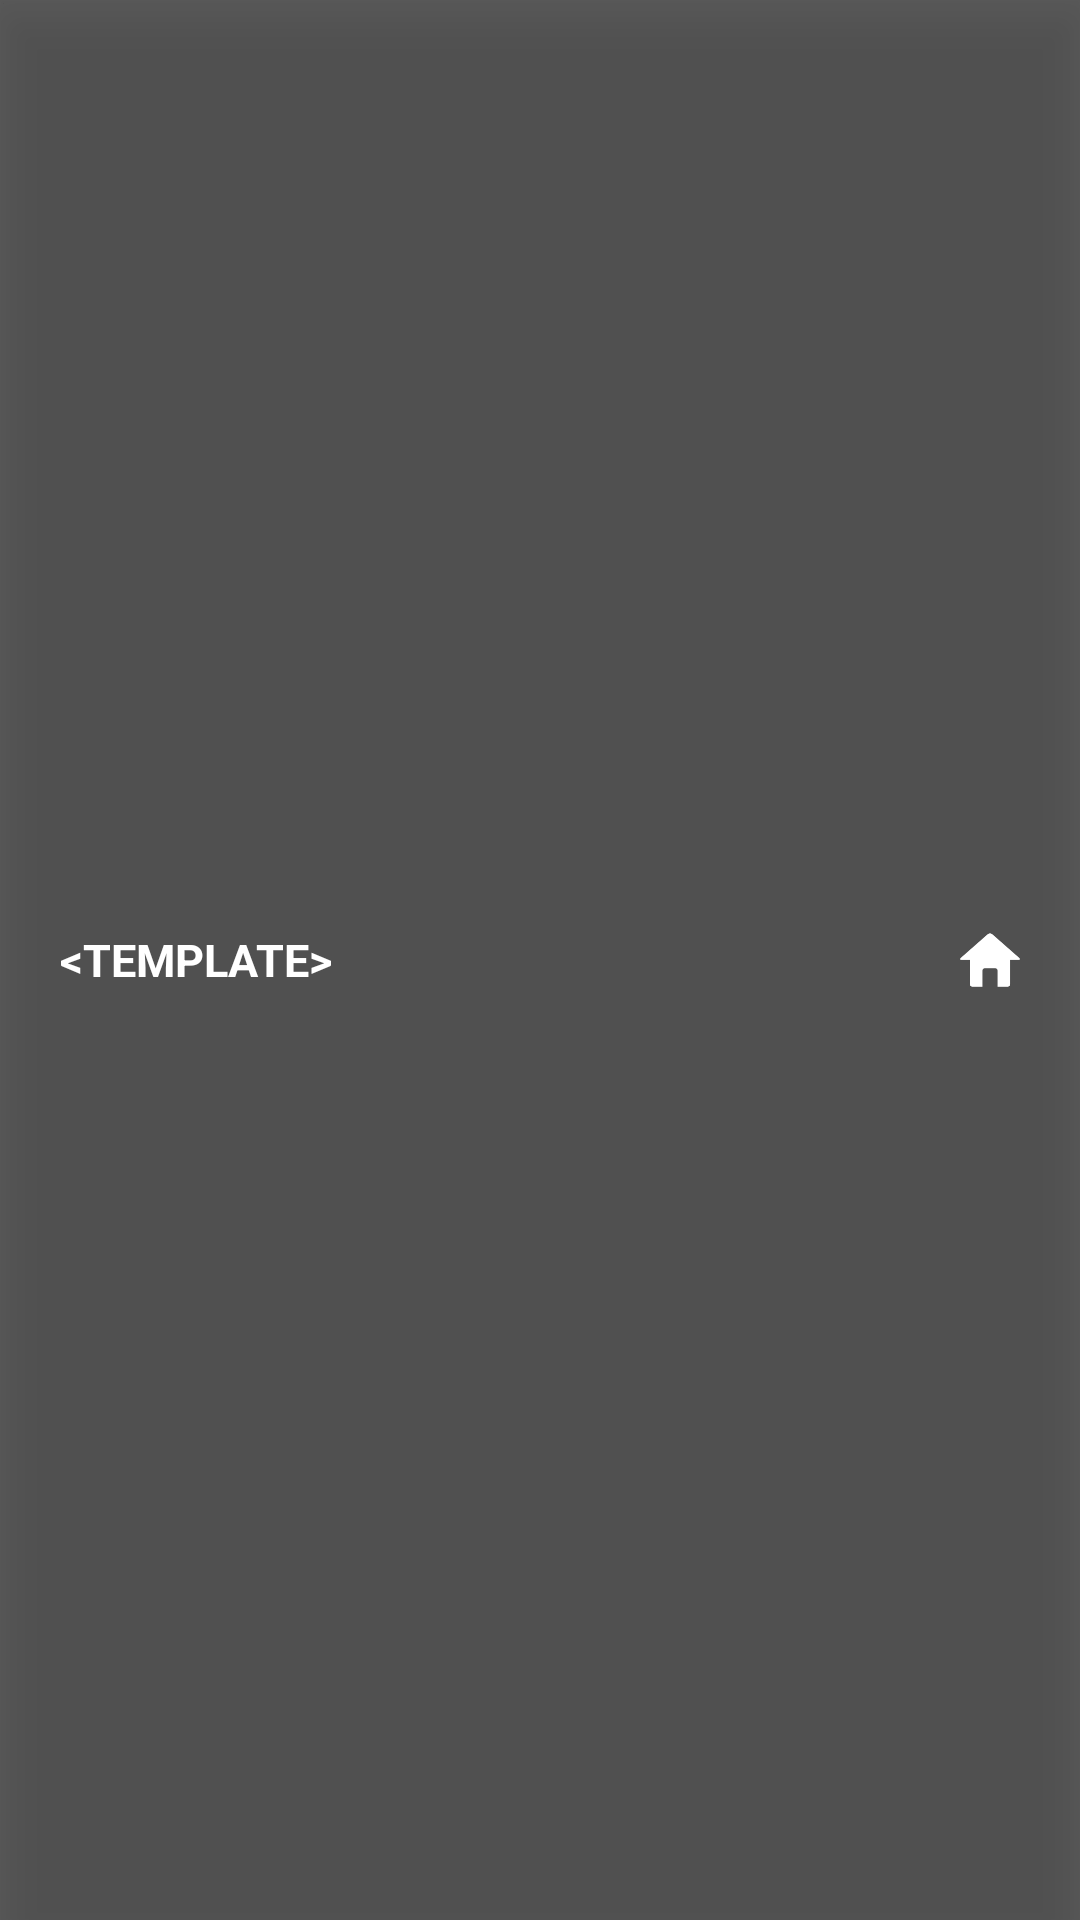

Named icons in this screenshot (1080 x 1920) and their bounding boxes, (x1, y1, x2, y2):
home: (960, 933, 1020, 987)
